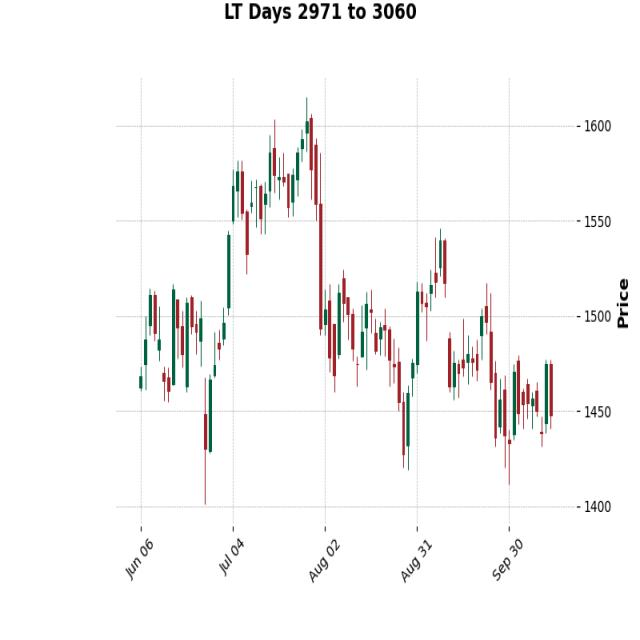Symmetric Triangle: (406, 234, 558, 483)
